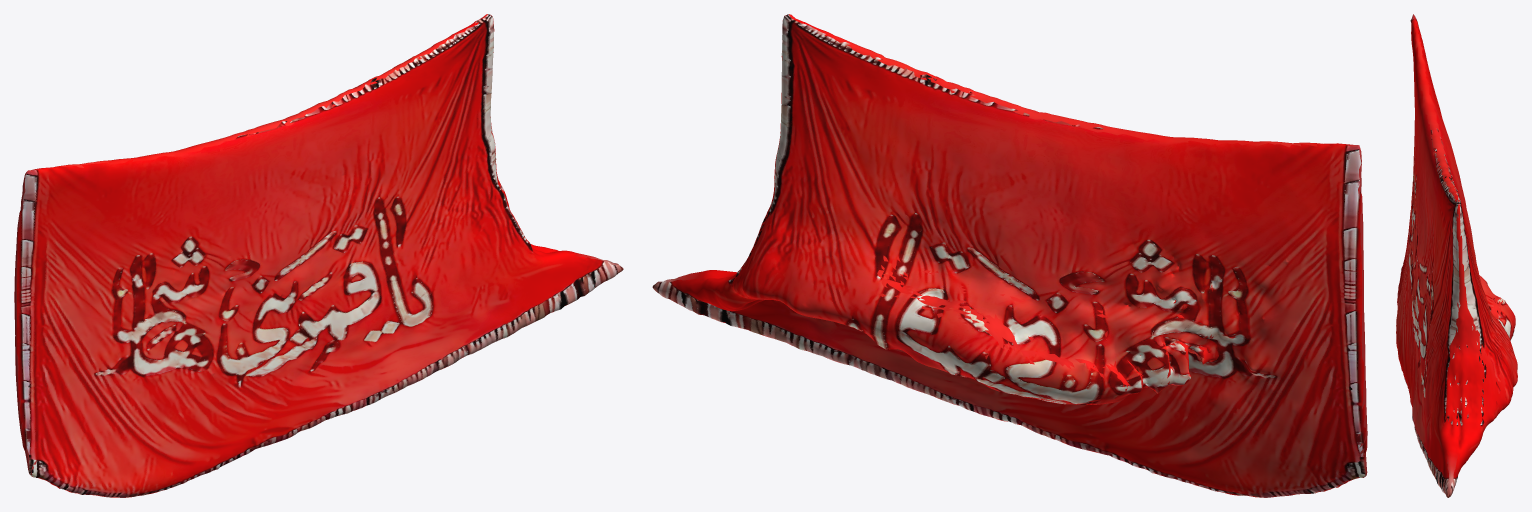
The model's file is kfl-2203.glb.
3 renders of one model, left to right at view 1: azimuth 30°, elevation 25°; view 2: azimuth 150°, elevation 25°; view 3: azimuth 270°, elevation 25°, orthographic. The views are drawn at different scales.
Parts seen in each view (by area): view 1: kfl-2203; view 2: kfl-2203; view 3: kfl-2203.
Part boxes in pixels (left/top/right/bottom): kfl-2203: left=14, top=14, right=623, bottom=497; kfl-2203: left=652, top=14, right=1367, bottom=497; kfl-2203: left=1396, top=14, right=1517, bottom=497.
Size of the model in its own units: 0.9864 by 0.5526 by 0.1945.
Materials: 4 (4 with a texture image).
